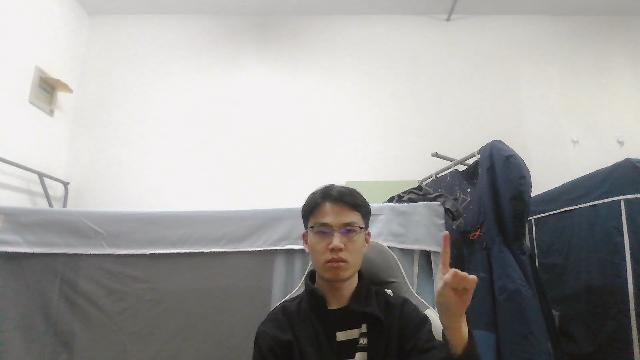one: (433, 229, 479, 308)
